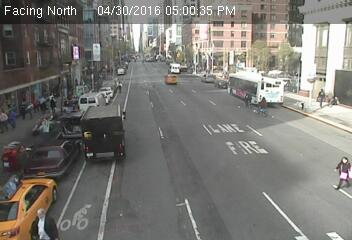neg: (66, 143, 91, 176), (181, 78, 193, 95), (113, 94, 125, 110), (120, 40, 131, 55), (115, 71, 126, 85), (147, 81, 156, 93), (145, 58, 153, 69), (110, 28, 117, 37), (108, 61, 114, 70), (101, 13, 107, 22), (181, 66, 187, 74), (162, 52, 167, 58), (177, 46, 181, 52)
